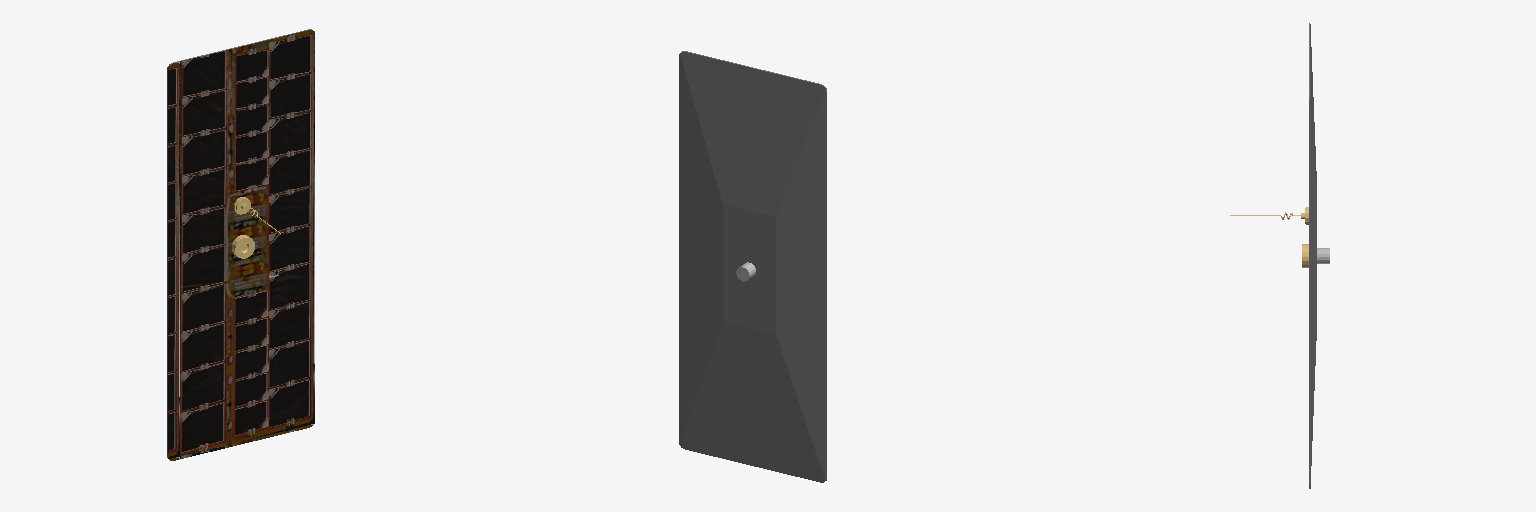
3 renders of one model, left to right at view 1: azimuth 30°, elevation 25°; view 2: azimuth 150°, elevation 25°; view 3: azimuth 270°, elevation 25°, orthographic.
Visible parts, largest first — view 1: Mesh2 Model; view 2: Mesh2 Model; view 3: Mesh2 Model.
Part boxes in pixels (left/top/right/bottom): Mesh2 Model: left=167, top=29, right=314, bottom=460; Mesh2 Model: left=679, top=51, right=826, bottom=482; Mesh2 Model: left=1309, top=23, right=1316, bottom=488.
Bounding box in the file's own units: 0.165 × 0.425 × 0.097.
4 materials, 1 textured.